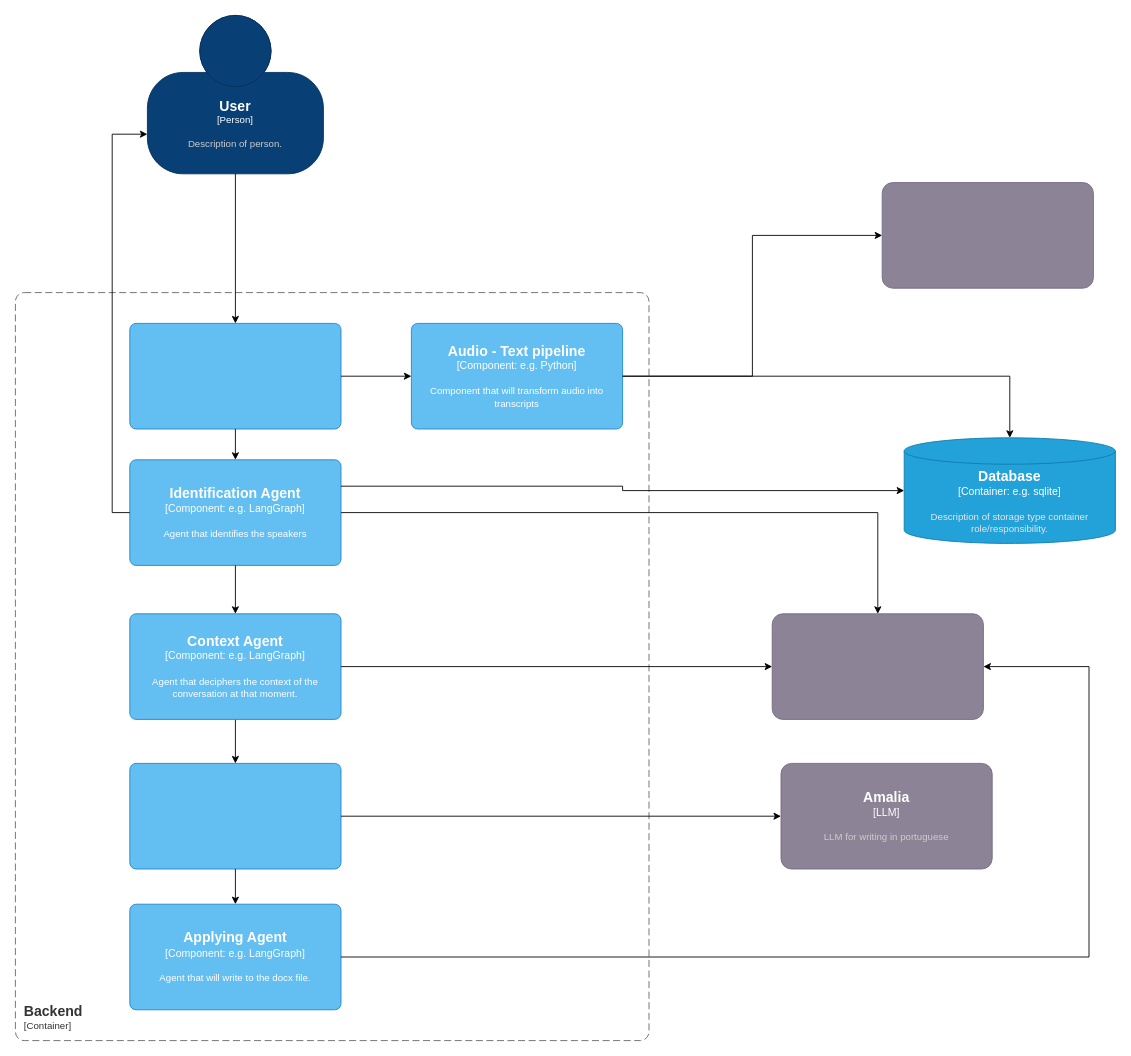
This 1131x1056 diagram has some shape labels left out. The centre of each missing label's shape, as x and y in pixels:
API [Component: e.g. FastAPI] API to create a report/meeting: the point at 235,376
QWEN3 [LLM] LLM: the point at 877,666
Whisper [Software System] Makes the transcription of the audio: the point at 987,235
Writing Agent [Component: e.g. LangGraph] Agent that writes the report: the point at 235,816
